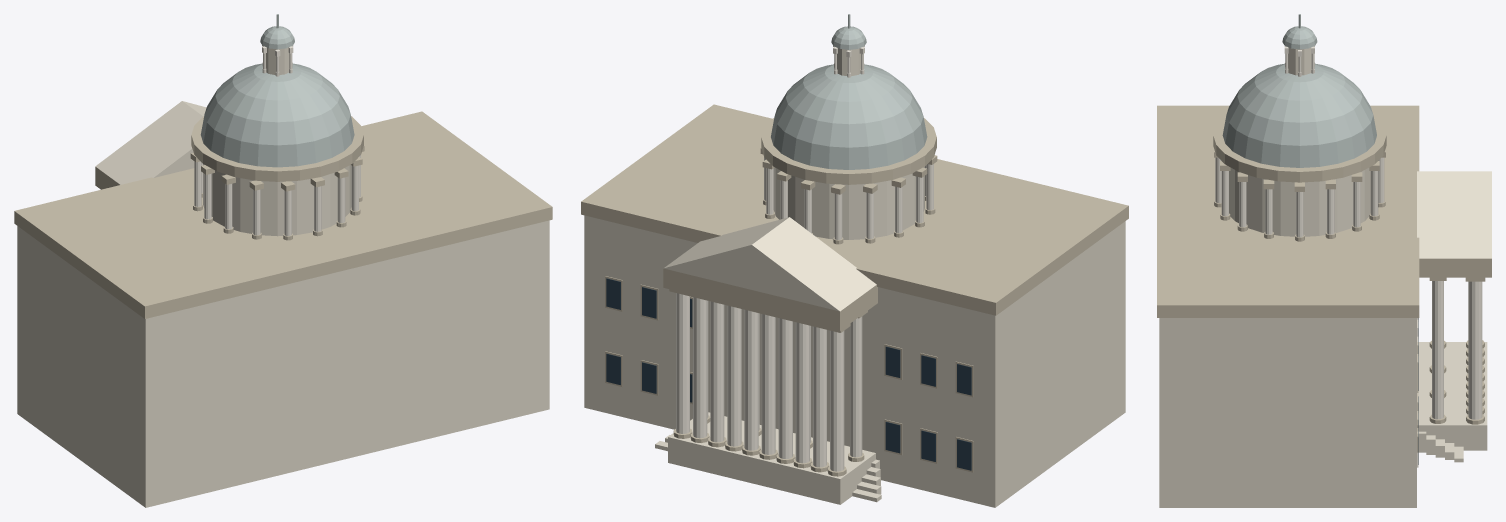
File: ucl.glb
3 renders of one model, left to right at view 1: azimuth 30°, elevation 25°; view 2: azimuth 150°, elevation 25°; view 3: azimuth 270°, elevation 25°, orthographic.
Visible parts, largest first — view 1: ucl; view 2: ucl; view 3: ucl.
Boxes of the visible parts, x1=… form: ucl: x1=14, y1=14, x2=552, y2=507; ucl: x1=581, y1=14, x2=1128, y2=507; ucl: x1=1157, y1=14, x2=1491, y2=507.
Size of the model in its own units: 20.2 by 18.6 by 14.3.
